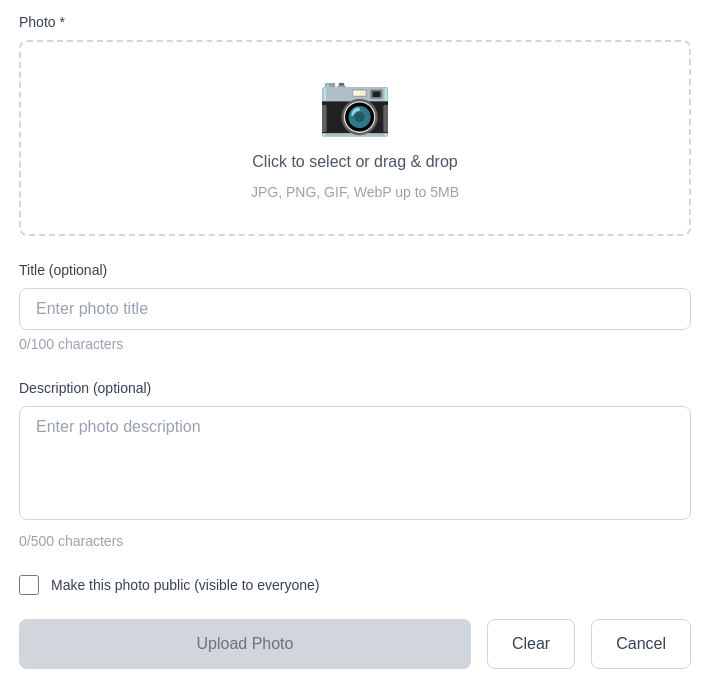
PhotoUploadForm › Clear Button › should clear form when clicked
# Fill in some data
In the field with placeholder "Enter photo title": (355, 309) x1=19 y1=288 x2=691 y2=330, type "Test Title"
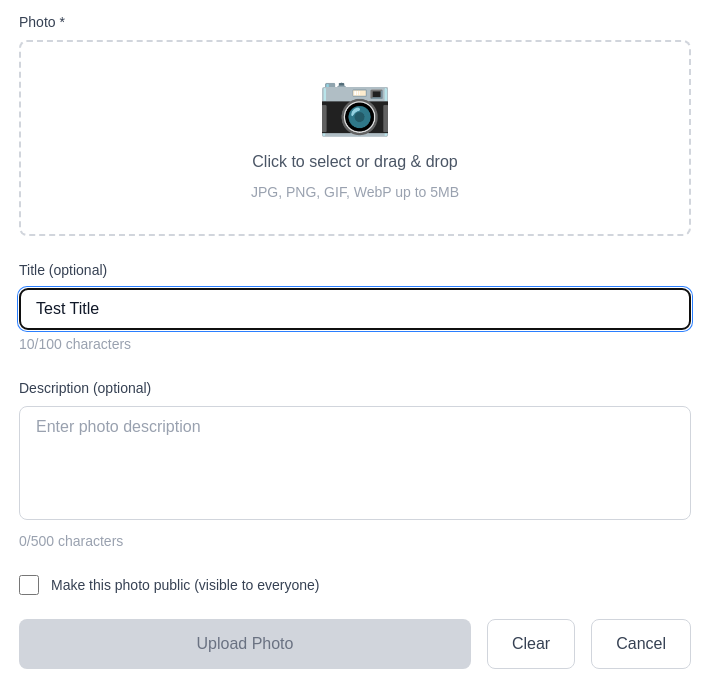
In the text box with placeholder "Enter photo description": (355, 463) x1=19 y1=406 x2=691 y2=520, type "Test Description"
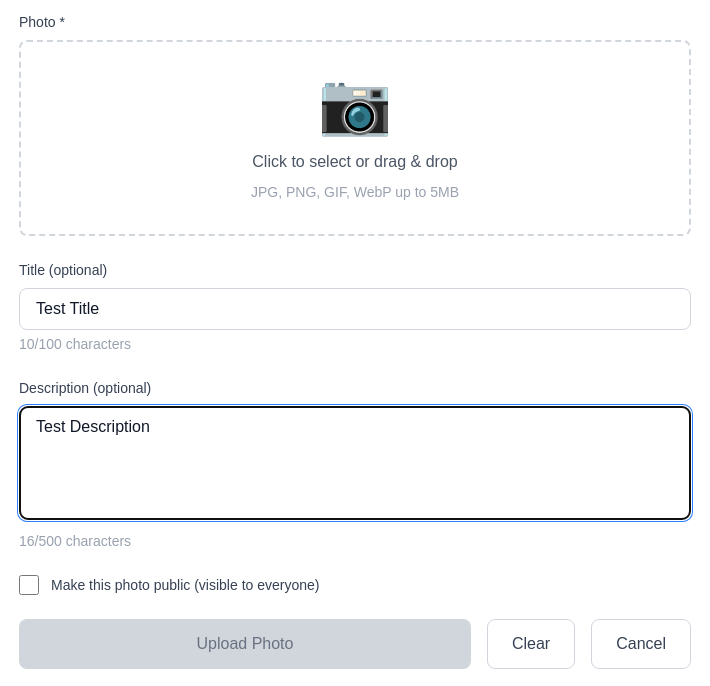
Click the checkbox labelled "Make this photo public (visible to everyone)": (29, 585) x1=19 y1=575 x2=39 y2=595
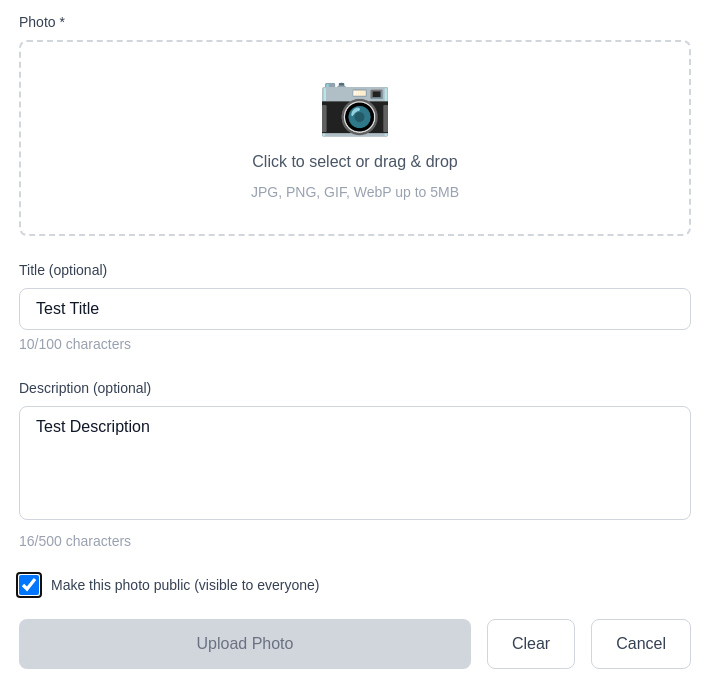
# Clear the form
Click the button "Clear": (531, 644) x1=487 y1=619 x2=575 y2=669
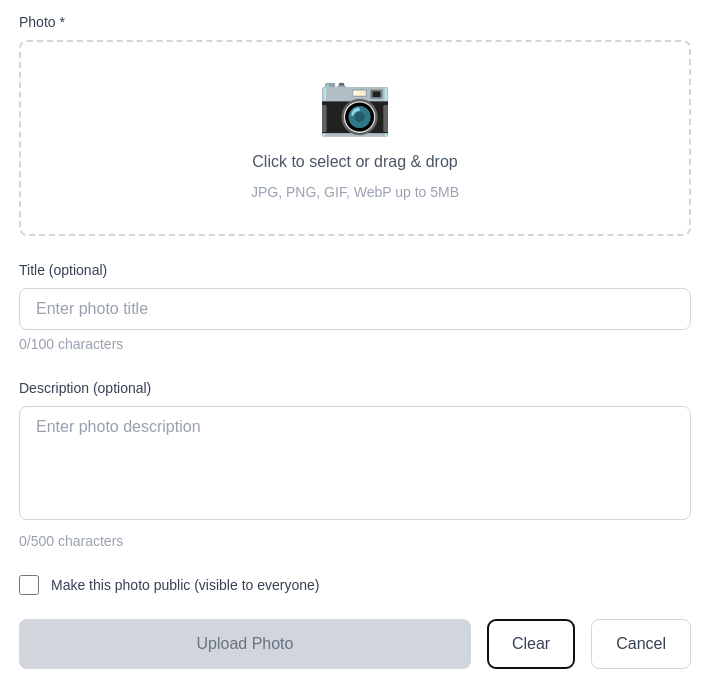
Expected: the checkbox labelled "Make this photo public (visible to everyone)" is not checked, x1=19 y1=575 x2=39 y2=595
Expected: the field with placeholder "Enter photo title" is empty, x1=19 y1=288 x2=691 y2=330
Expected: the text box with placeholder "Enter photo description" is empty, x1=19 y1=406 x2=691 y2=520
